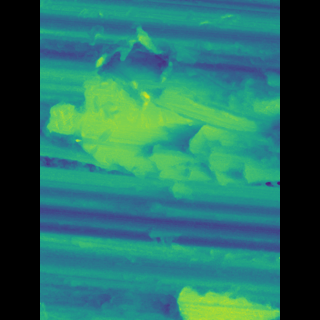Loch: (67, 15, 250, 199), (169, 283, 248, 320)
